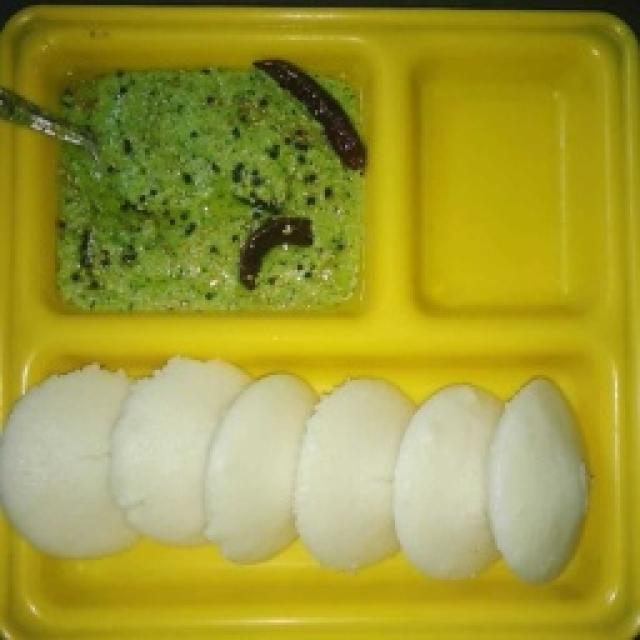idli: (19, 360, 616, 570)
